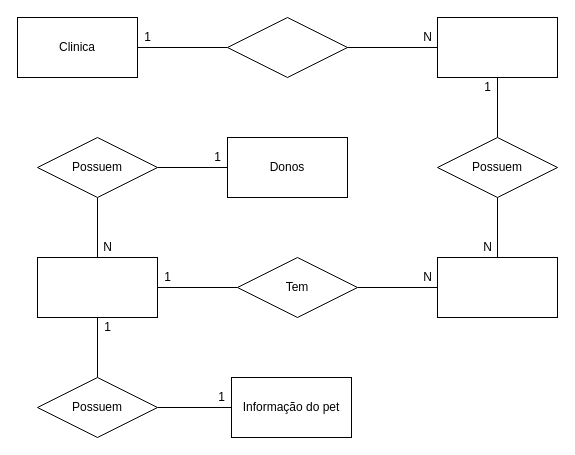
This 575x455 diagram has some shape labels left out. The shapes that lost their labels are listed below. From the top down, each one's centre as x and y in pixels, then its label:
At point 287,47: "Possui".
At point 497,47: "Veterinários".
At point 97,287: "Pets".
At point 497,287: "Consultas".
